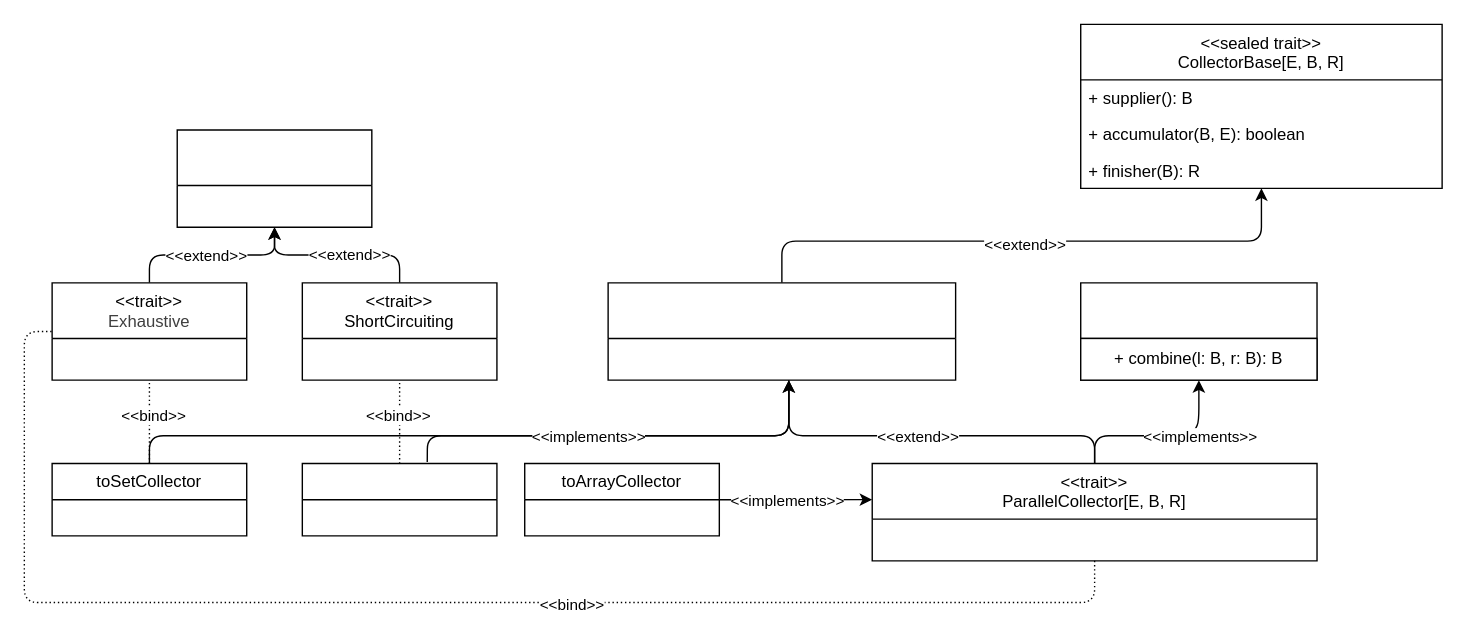
Image size: 1466x638. Some labels were removed from this diagram. Each missing label, with the box of its shape:
<<sealed trait>> TerminationPolicy: (176, 129, 372, 227)
<<trait>> Collector[E, B, R, S <: TerminationPolicy]: (607, 281, 956, 380)
<<trait>> Combinable[B]: (1079, 281, 1317, 380)
findFirstCollector: (301, 462, 497, 536)
